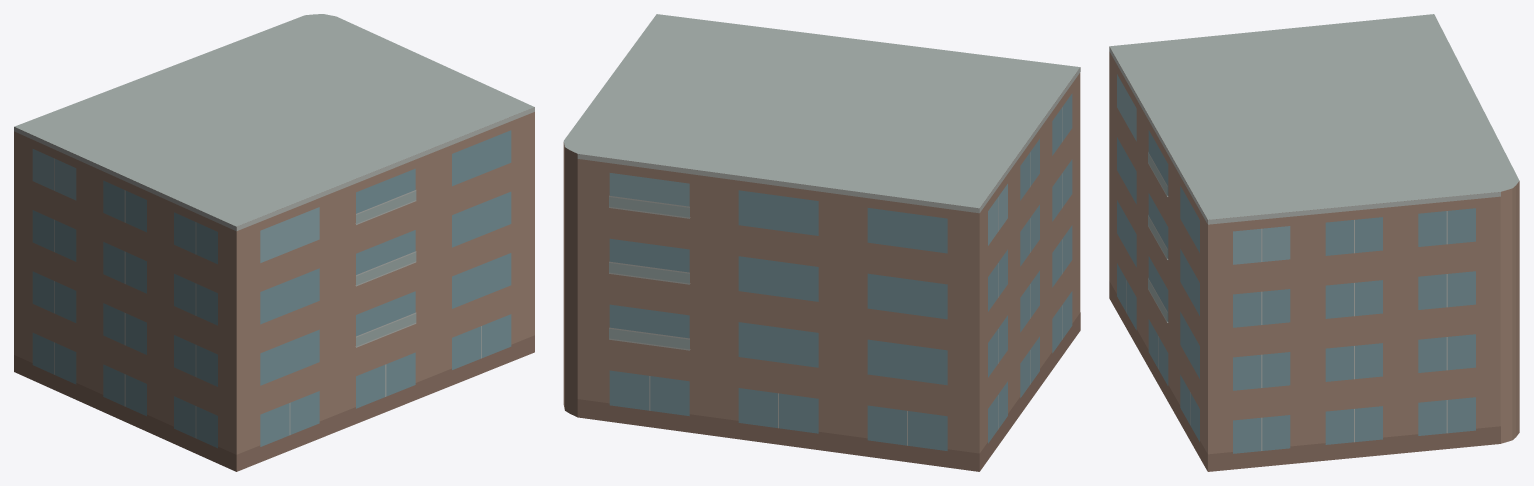
The model's file is survey-upis-32800064.glb.
3 renders of one model, left to right at view 1: azimuth 30°, elevation 25°; view 2: azimuth 150°, elevation 25°; view 3: azimuth 270°, elevation 25°, orthographic. The views are drawn at different scales.
Visible parts, largest first — view 1: survey-upis-32800064.tmp; view 2: survey-upis-32800064.tmp; view 3: survey-upis-32800064.tmp.
Boxes of the visible parts, x1,y1,x2,y2 form: survey-upis-32800064.tmp: (14,14,534,471); survey-upis-32800064.tmp: (563,14,1080,471); survey-upis-32800064.tmp: (1109,14,1519,471).
Bounding box in the file's own units: 22.61 × 12.9 × 19.04.
